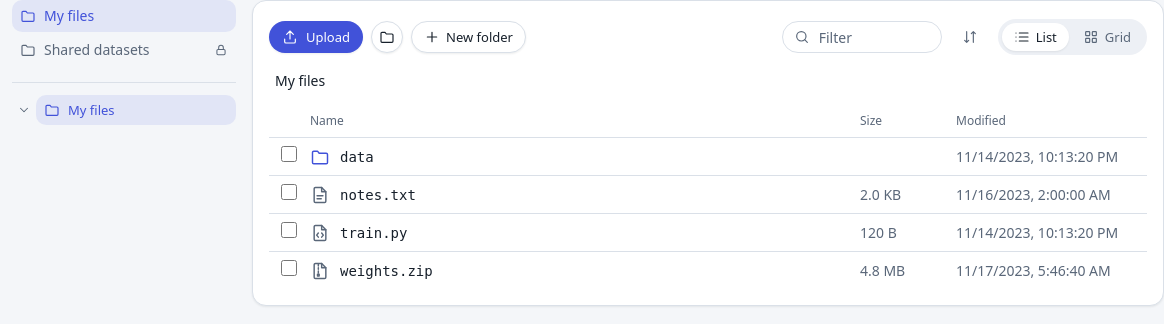
Test: Files workspace › switches between a list and a grid, and filters by name
expect the table named "Files" is shown: met, box x1=269 y1=105 x2=1147 y2=289
Click the radio button labelled "Grid" at (1107, 37), box x1=1071 y1=23 x2=1143 y2=51
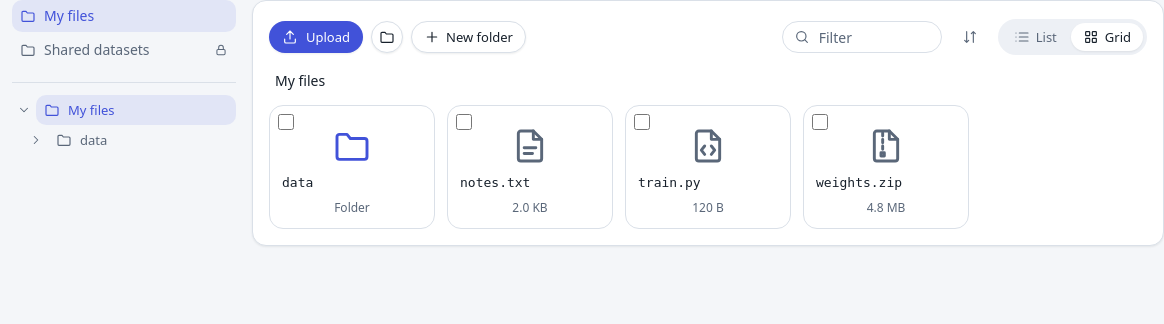
expect the list named "Files" is shown: met, box x1=269 y1=105 x2=969 y2=229
expect the table is gone: met
Type "notes" into the search field named "Filter files" at (862, 37), box x1=782 y1=21 x2=942 y2=53
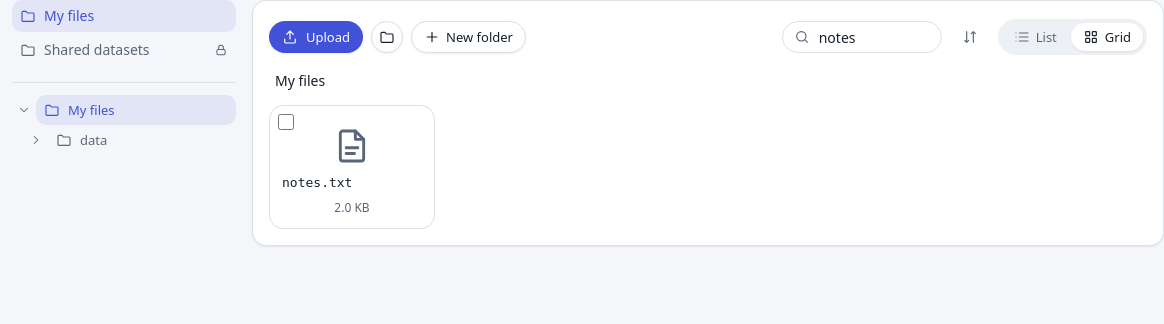
expect the button "notes.txt" is shown: met, box x1=282 y1=174 x2=422 y2=192
expect the button "train.py" is gone: met
